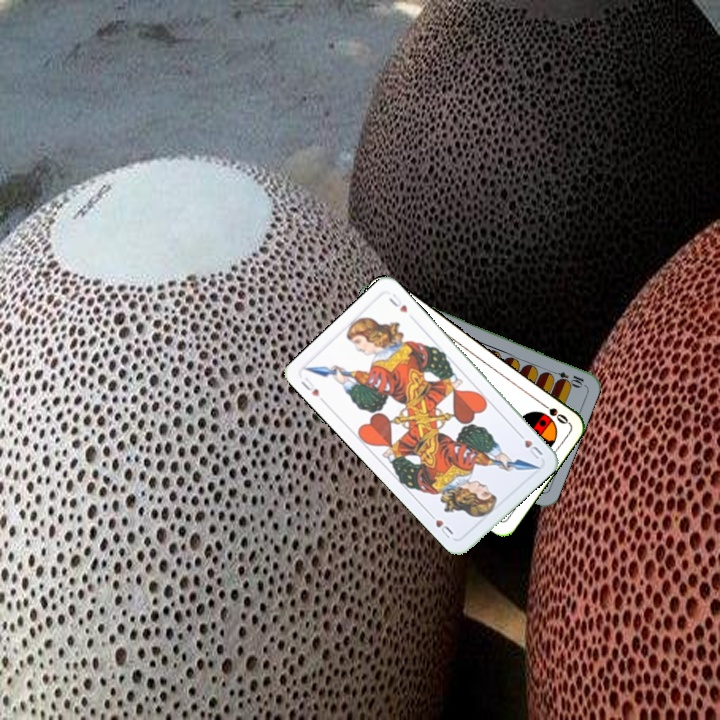E10: (546, 367, 586, 389)
HU: (513, 428, 545, 462), (297, 373, 322, 399)
SO: (535, 398, 571, 427)
